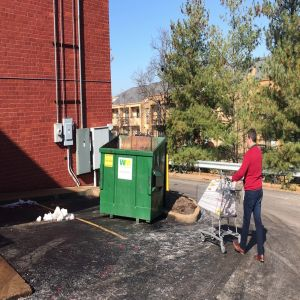Dumpster: (97, 129, 168, 227)
Person: (226, 127, 276, 266)
